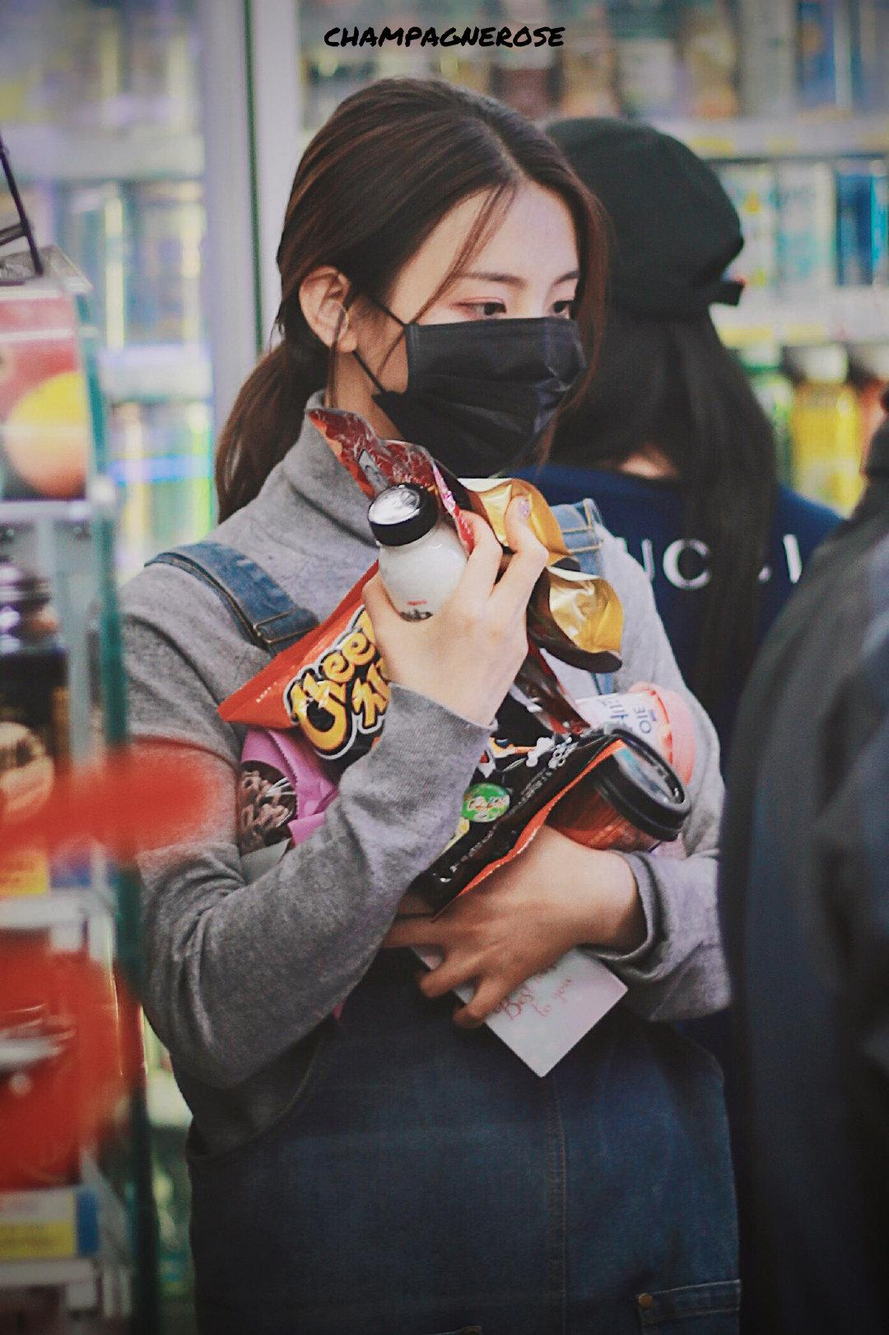OK: (371, 243, 585, 482)
